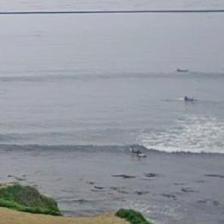surfer: (184, 96, 195, 102), (132, 149, 142, 154), (177, 69, 188, 72)
